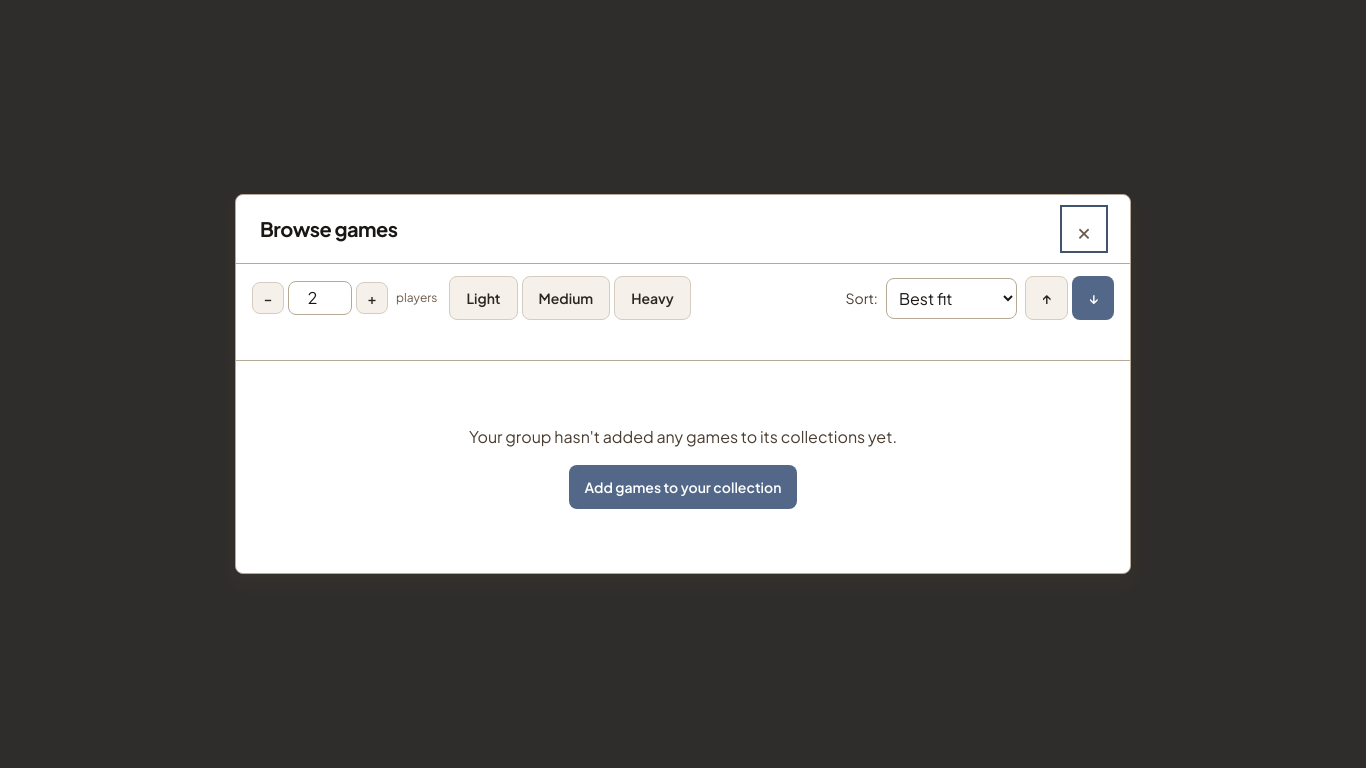
BrowseMoreModal decrement at 1 and the capture latch (88.6.1-32, AC-13, W006) › H: at 1 the decrement is aria-disabled, not natively disabled, and keeps its compact square
The image size is (1366, 768).
Expected: the link "Add games to your collection" is shown, [569,465,797,509]
What coordinates should you click on to do the following:
click the button named "Decrease player count"
I would click on:
 (268, 298)
Its box is [252,282,284,314].
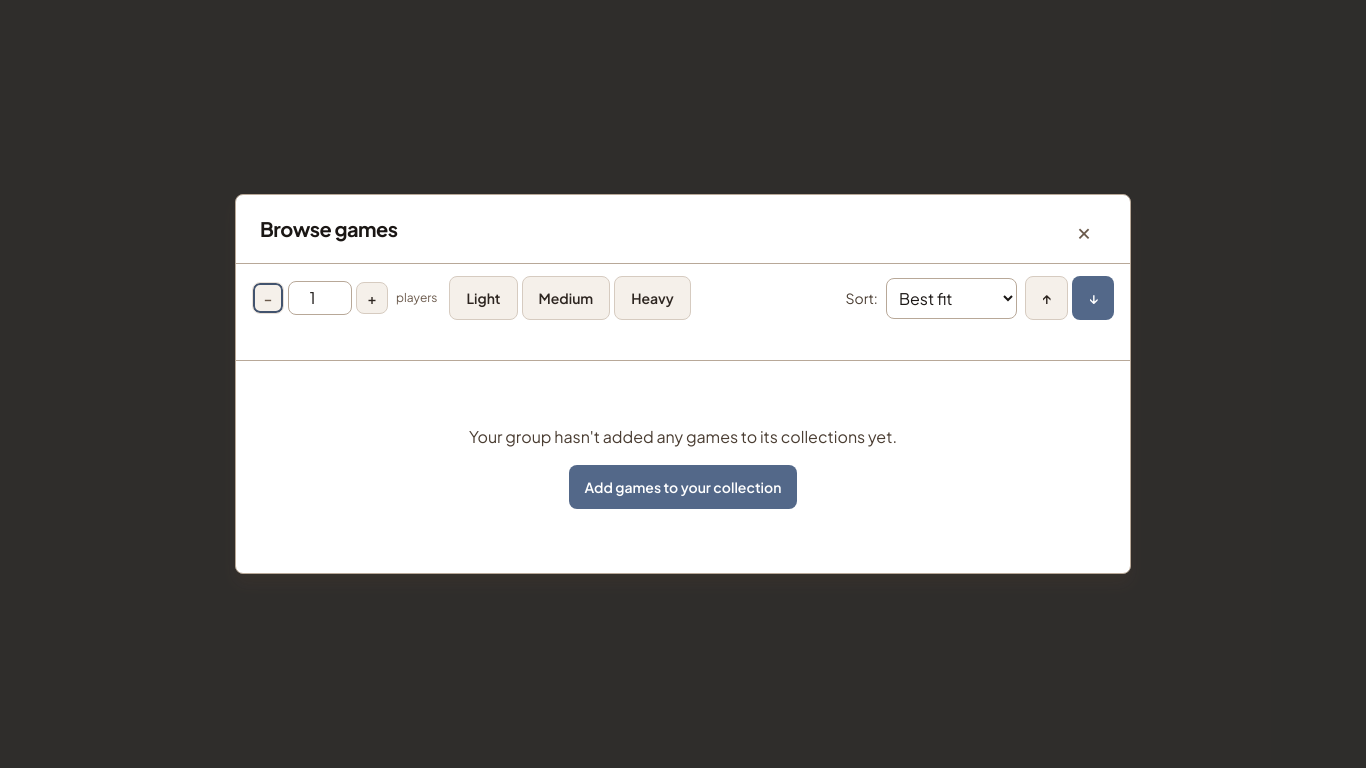
Expected: the number field named "Player count" holds "1", [288,281,352,315]
